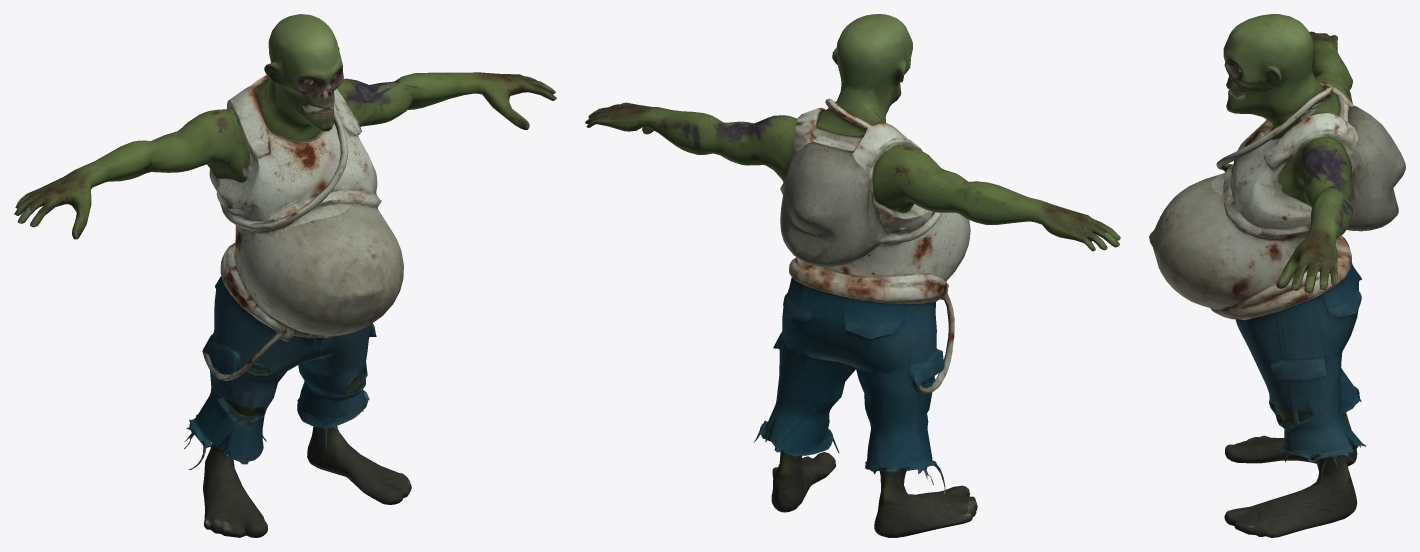
The picture shows the model from 3 angles, left to right: view 1: azimuth 30°, elevation 25°; view 2: azimuth 150°, elevation 25°; view 3: azimuth 270°, elevation 25°; orthographic projection. The views are drawn at different scales.
Size of the model in its own units: 1.9 by 1.65 by 0.8063.
1 material, 1 textured.
